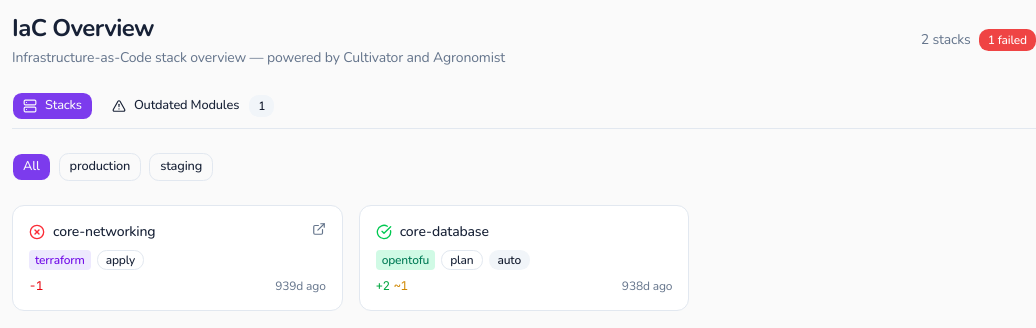
IacDashboardClient › filters stacks by environment tab when clicked
The image size is (1036, 328).
Expected: the text "core-networking" is shown, [53, 222, 155, 242]
Step 1. Click the button "staging" → (181, 167), box [149, 153, 213, 181]
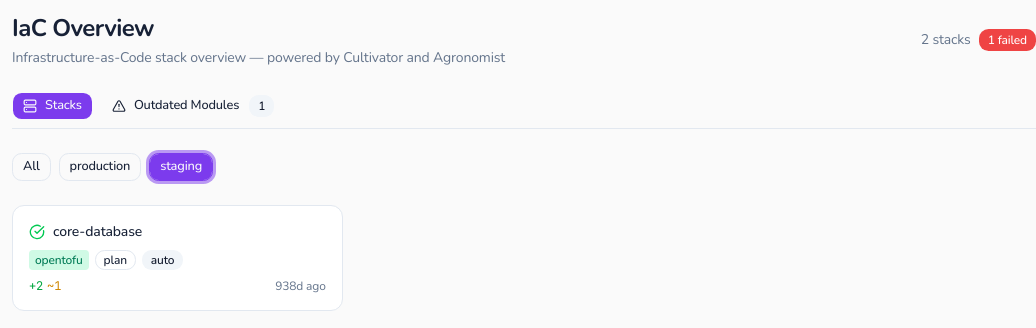
Expected: the text "core-database" is shown, [53, 222, 142, 242]
Expected: the button "core-networking" is gone
